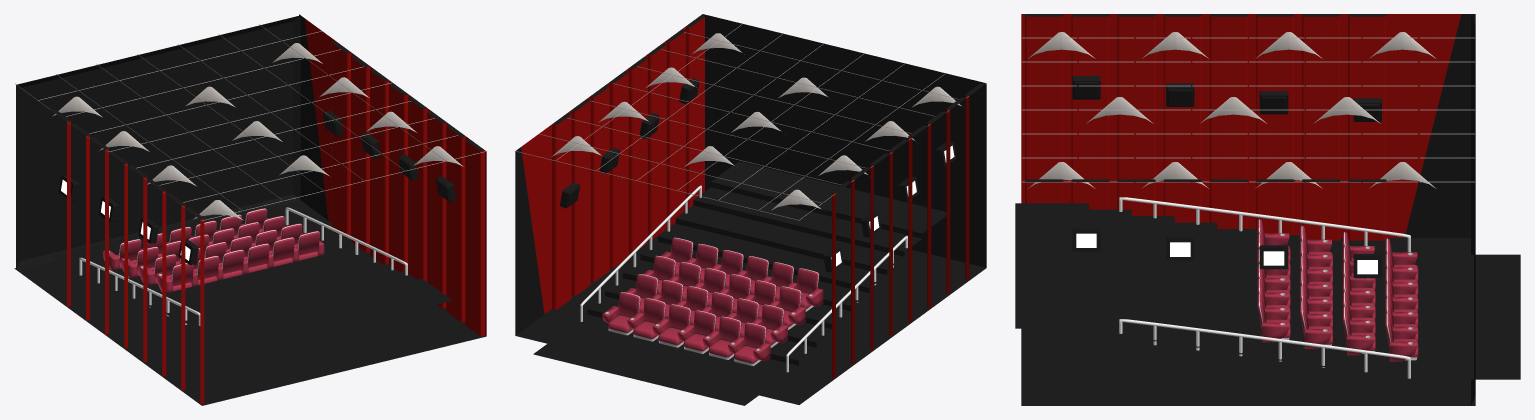
Rendered from Cinema.glb.
3 renders of one model, left to right at view 1: azimuth 30°, elevation 25°; view 2: azimuth 150°, elevation 25°; view 3: azimuth 270°, elevation 25°, orthographic. The views are drawn at different scales.
Visible parts, largest first — view 1: FrontWall, SideWall, FloorPlane, Staircase, Chairs, Ceiling, Circle, Cube_001, BézierCurve, Circle_001; view 2: SideWall, BackWall, Staircase, Chairs, FloorPlane, Ceiling, Circle, Cube_001, BézierCurve, Circle_001; view 3: SideWall, Staircase, FloorPlane, Chairs, Ceiling, Cube_001, Circle, BézierCurve, Circle_001, FrontWall.
Part boxes in pixels (x1,y1,x2,y2): FrontWall: [16, 15, 300, 269]; SideWall: [51, 14, 486, 404]; FloorPlane: [14, 200, 486, 405]; Staircase: [51, 204, 452, 352]; Chairs: [102, 208, 324, 292]; Ceiling: [15, 24, 485, 220]; Circle: [52, 43, 463, 220]; Cube_001: [59, 110, 456, 264]; BézierCurve: [79, 207, 407, 325]; Circle_001: [185, 86, 328, 175]; SideWall: [515, 14, 984, 378]; BackWall: [702, 14, 986, 267]; Staircase: [533, 161, 946, 405]; Chairs: [602, 237, 823, 365]; FloorPlane: [515, 223, 986, 404]; Ceiling: [516, 24, 985, 220]; Circle: [551, 33, 961, 210]; Cube_001: [560, 78, 956, 272]; BézierCurve: [580, 185, 907, 372]; Circle_001: [684, 77, 827, 166]; SideWall: [1021, 14, 1475, 240]; Staircase: [1015, 203, 1520, 379]; FloorPlane: [1021, 238, 1475, 405]; Chairs: [1257, 219, 1418, 361]; Ceiling: [1022, 37, 1474, 182]; Cube_001: [1072, 76, 1381, 278]; Circle: [1028, 32, 1436, 188]; BézierCurve: [1119, 197, 1410, 378]; Circle_001: [1086, 97, 1380, 123]; FrontWall: [1471, 14, 1475, 405].
Size of the model in its own units: 14 by 8.7 by 17.78.
Materials: 6 (3 with a texture image).
